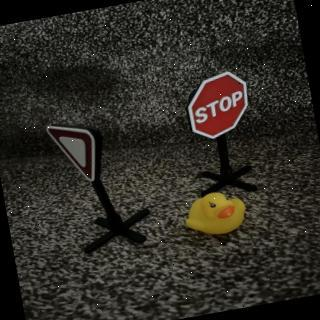duck_regular: (182, 189, 251, 242)
sign_stop: (184, 70, 257, 146)
sign_yield: (48, 118, 111, 190)
